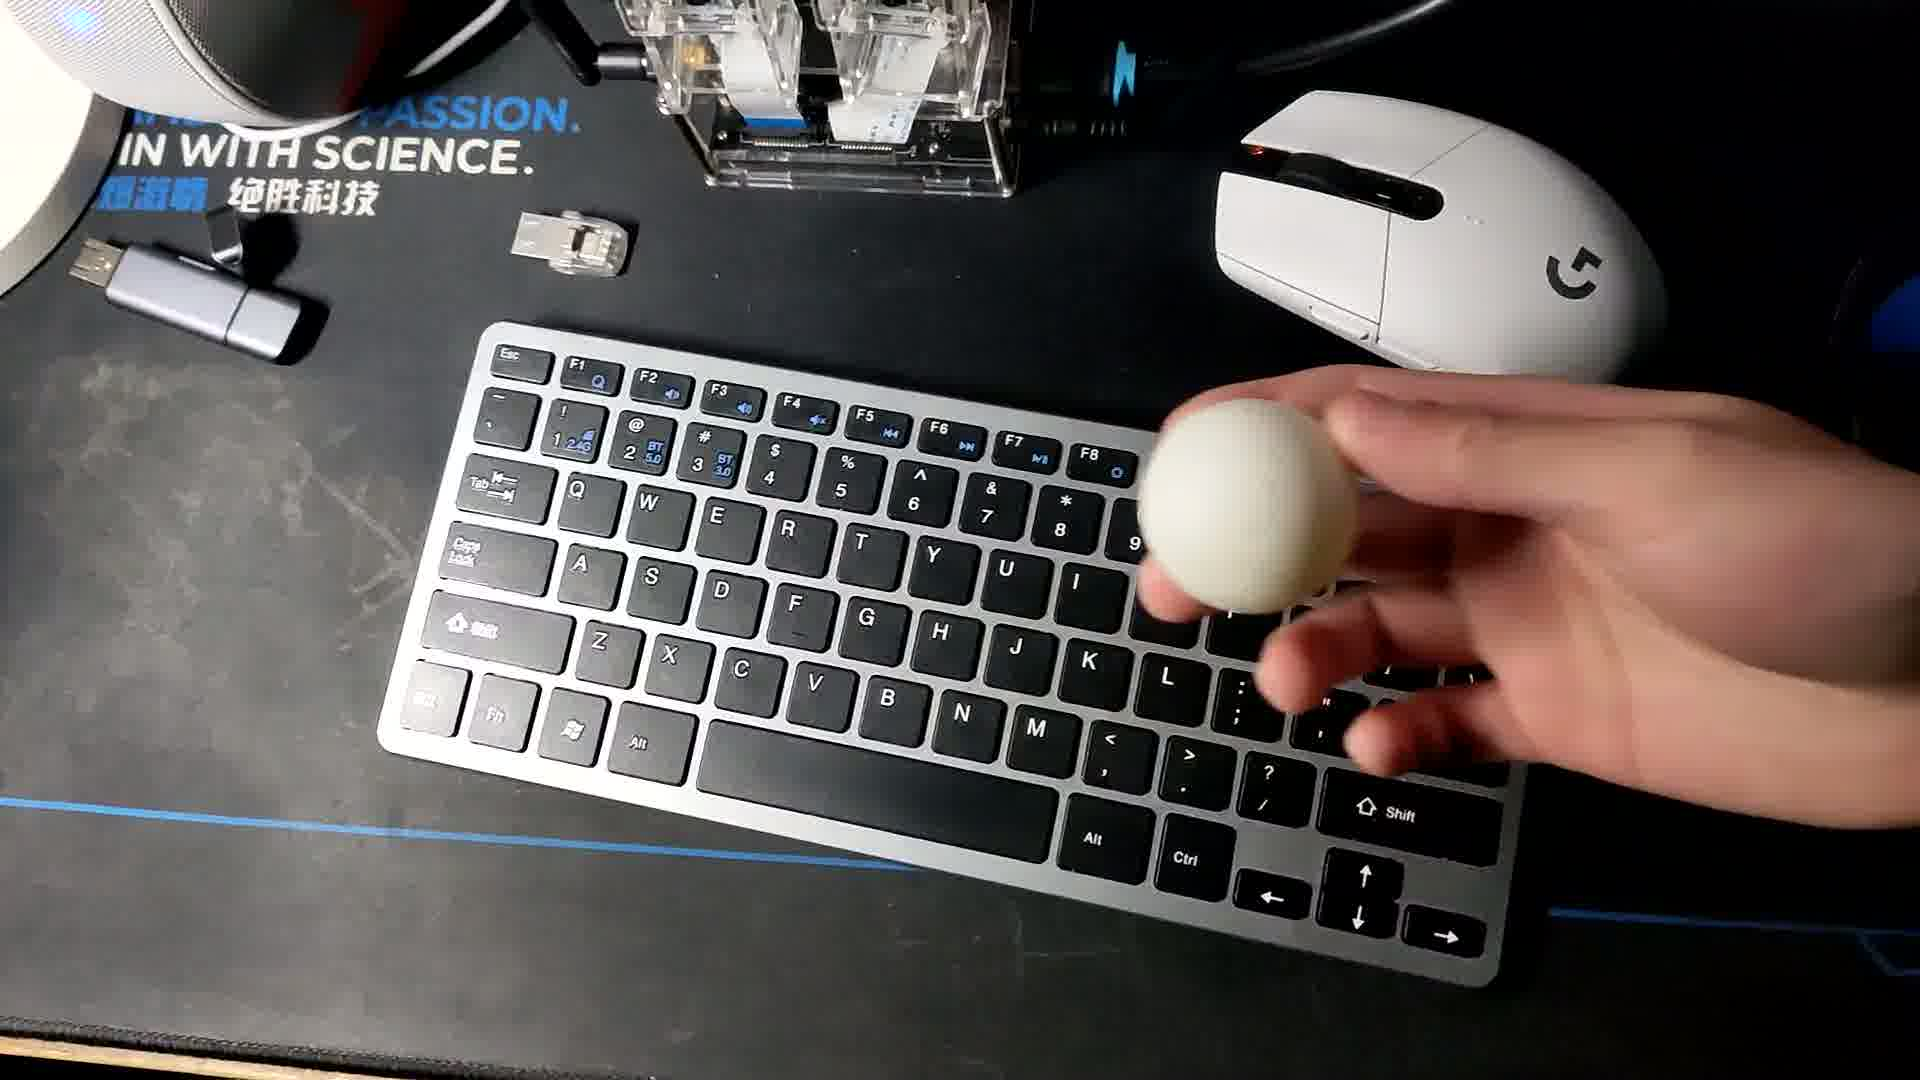Ball: (1138, 402, 1356, 611)
